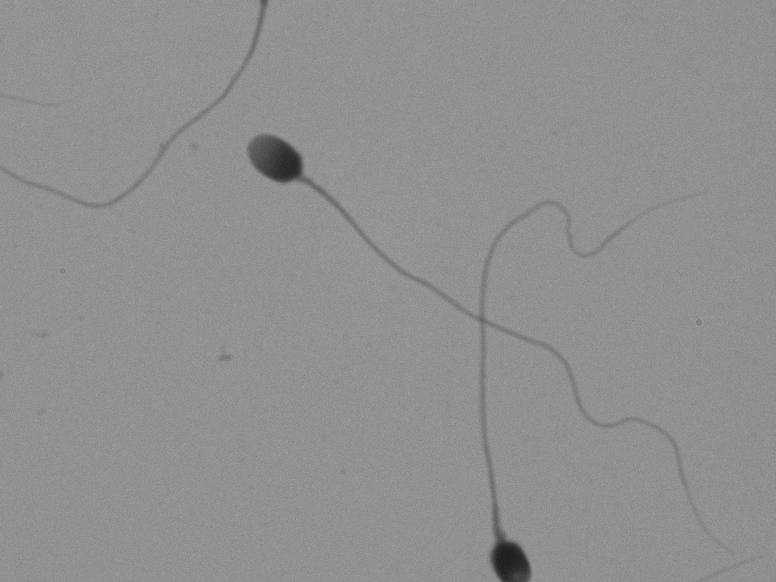Normal: (239, 102, 712, 496)
